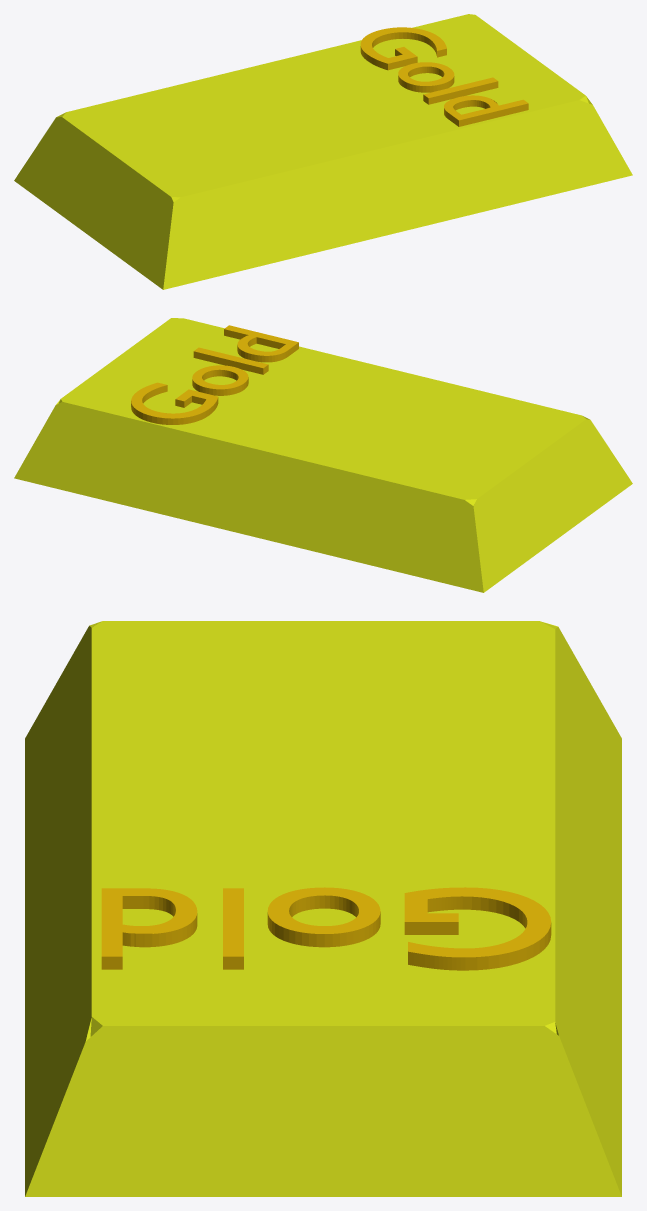
File: ingot_2.fbx
3 views of the same model, one above another, from view 1: azimuth 30°, elevation 25°; view 2: azimuth 150°, elevation 25°; view 3: azimuth 270°, elevation 25° (orthographic). The views are drawn at different scales.
Parts seen in each view (by area): view 1: Cube, テキスト; view 2: Cube, テキスト; view 3: Cube, テキスト.
Part boxes in pixels (x1=…): Cube: x1=14, y1=14, x2=632, y2=289; テキスト: x1=360, y1=27, x2=528, y2=126; Cube: x1=14, y1=318, x2=632, y2=592; テキスト: x1=131, y1=325, x2=298, y2=424; Cube: x1=25, y1=621, x2=621, y2=1196; テキスト: x1=101, y1=887, x2=551, y2=970.
Bounding box in the file's own units: 410 × 65.69 × 226.
